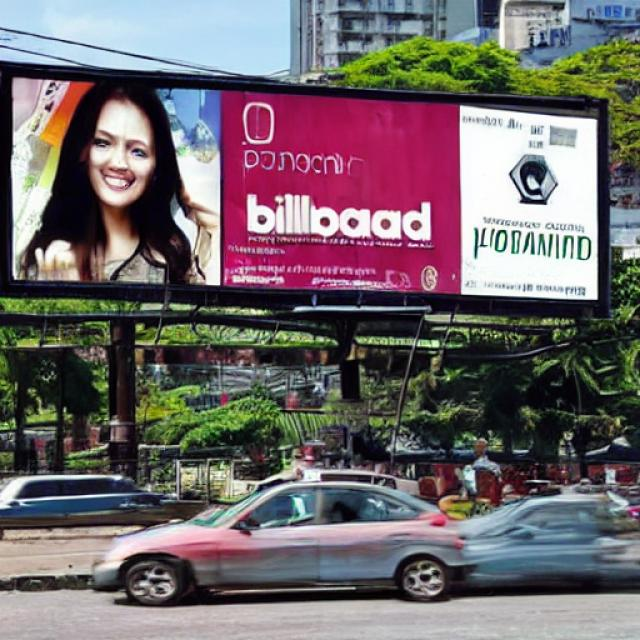Billboard: (2, 59, 612, 311)
